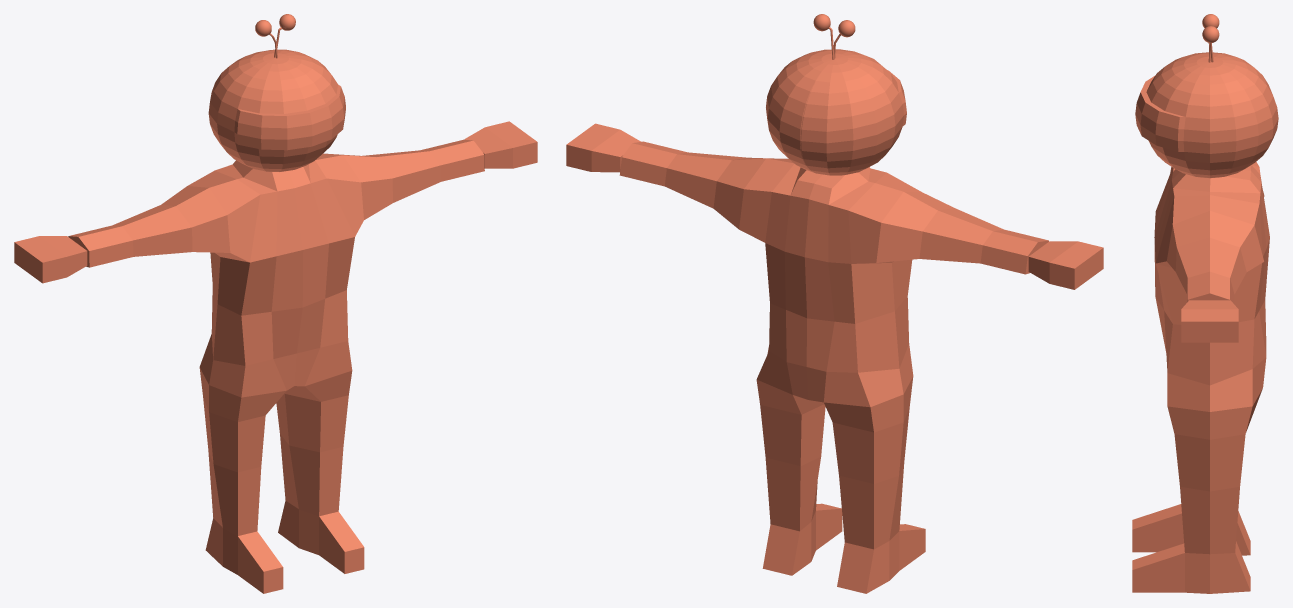
The model's file is protochar.fbx.
The picture shows the model from 3 angles, left to right: view 1: azimuth 30°, elevation 25°; view 2: azimuth 150°, elevation 25°; view 3: azimuth 270°, elevation 25°; orthographic projection. The views are drawn at different scales.
Parts seen in each view (by area): view 1: Char; view 2: Char; view 3: Char.
Part boxes in pixels (x1=…): Char: x1=14, y1=14, x2=537, y2=593; Char: x1=566, y1=14, x2=1103, y2=593; Char: x1=1132, y1=14, x2=1278, y2=593.
Size of the model in its own units: 1.94 by 2 by 0.4859.
